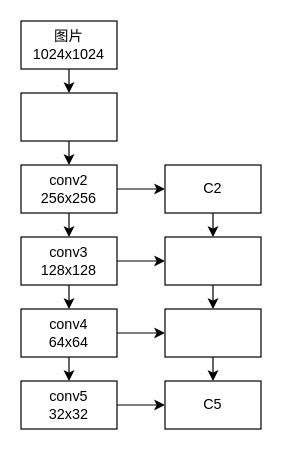
This 282x450 diagram has some shape labels left out. Here are the shapes that lost their labels. From the top down, the centre of each, then its label:
(68,116): conv1 512x512
(212,260): C3
(212,332): C4
